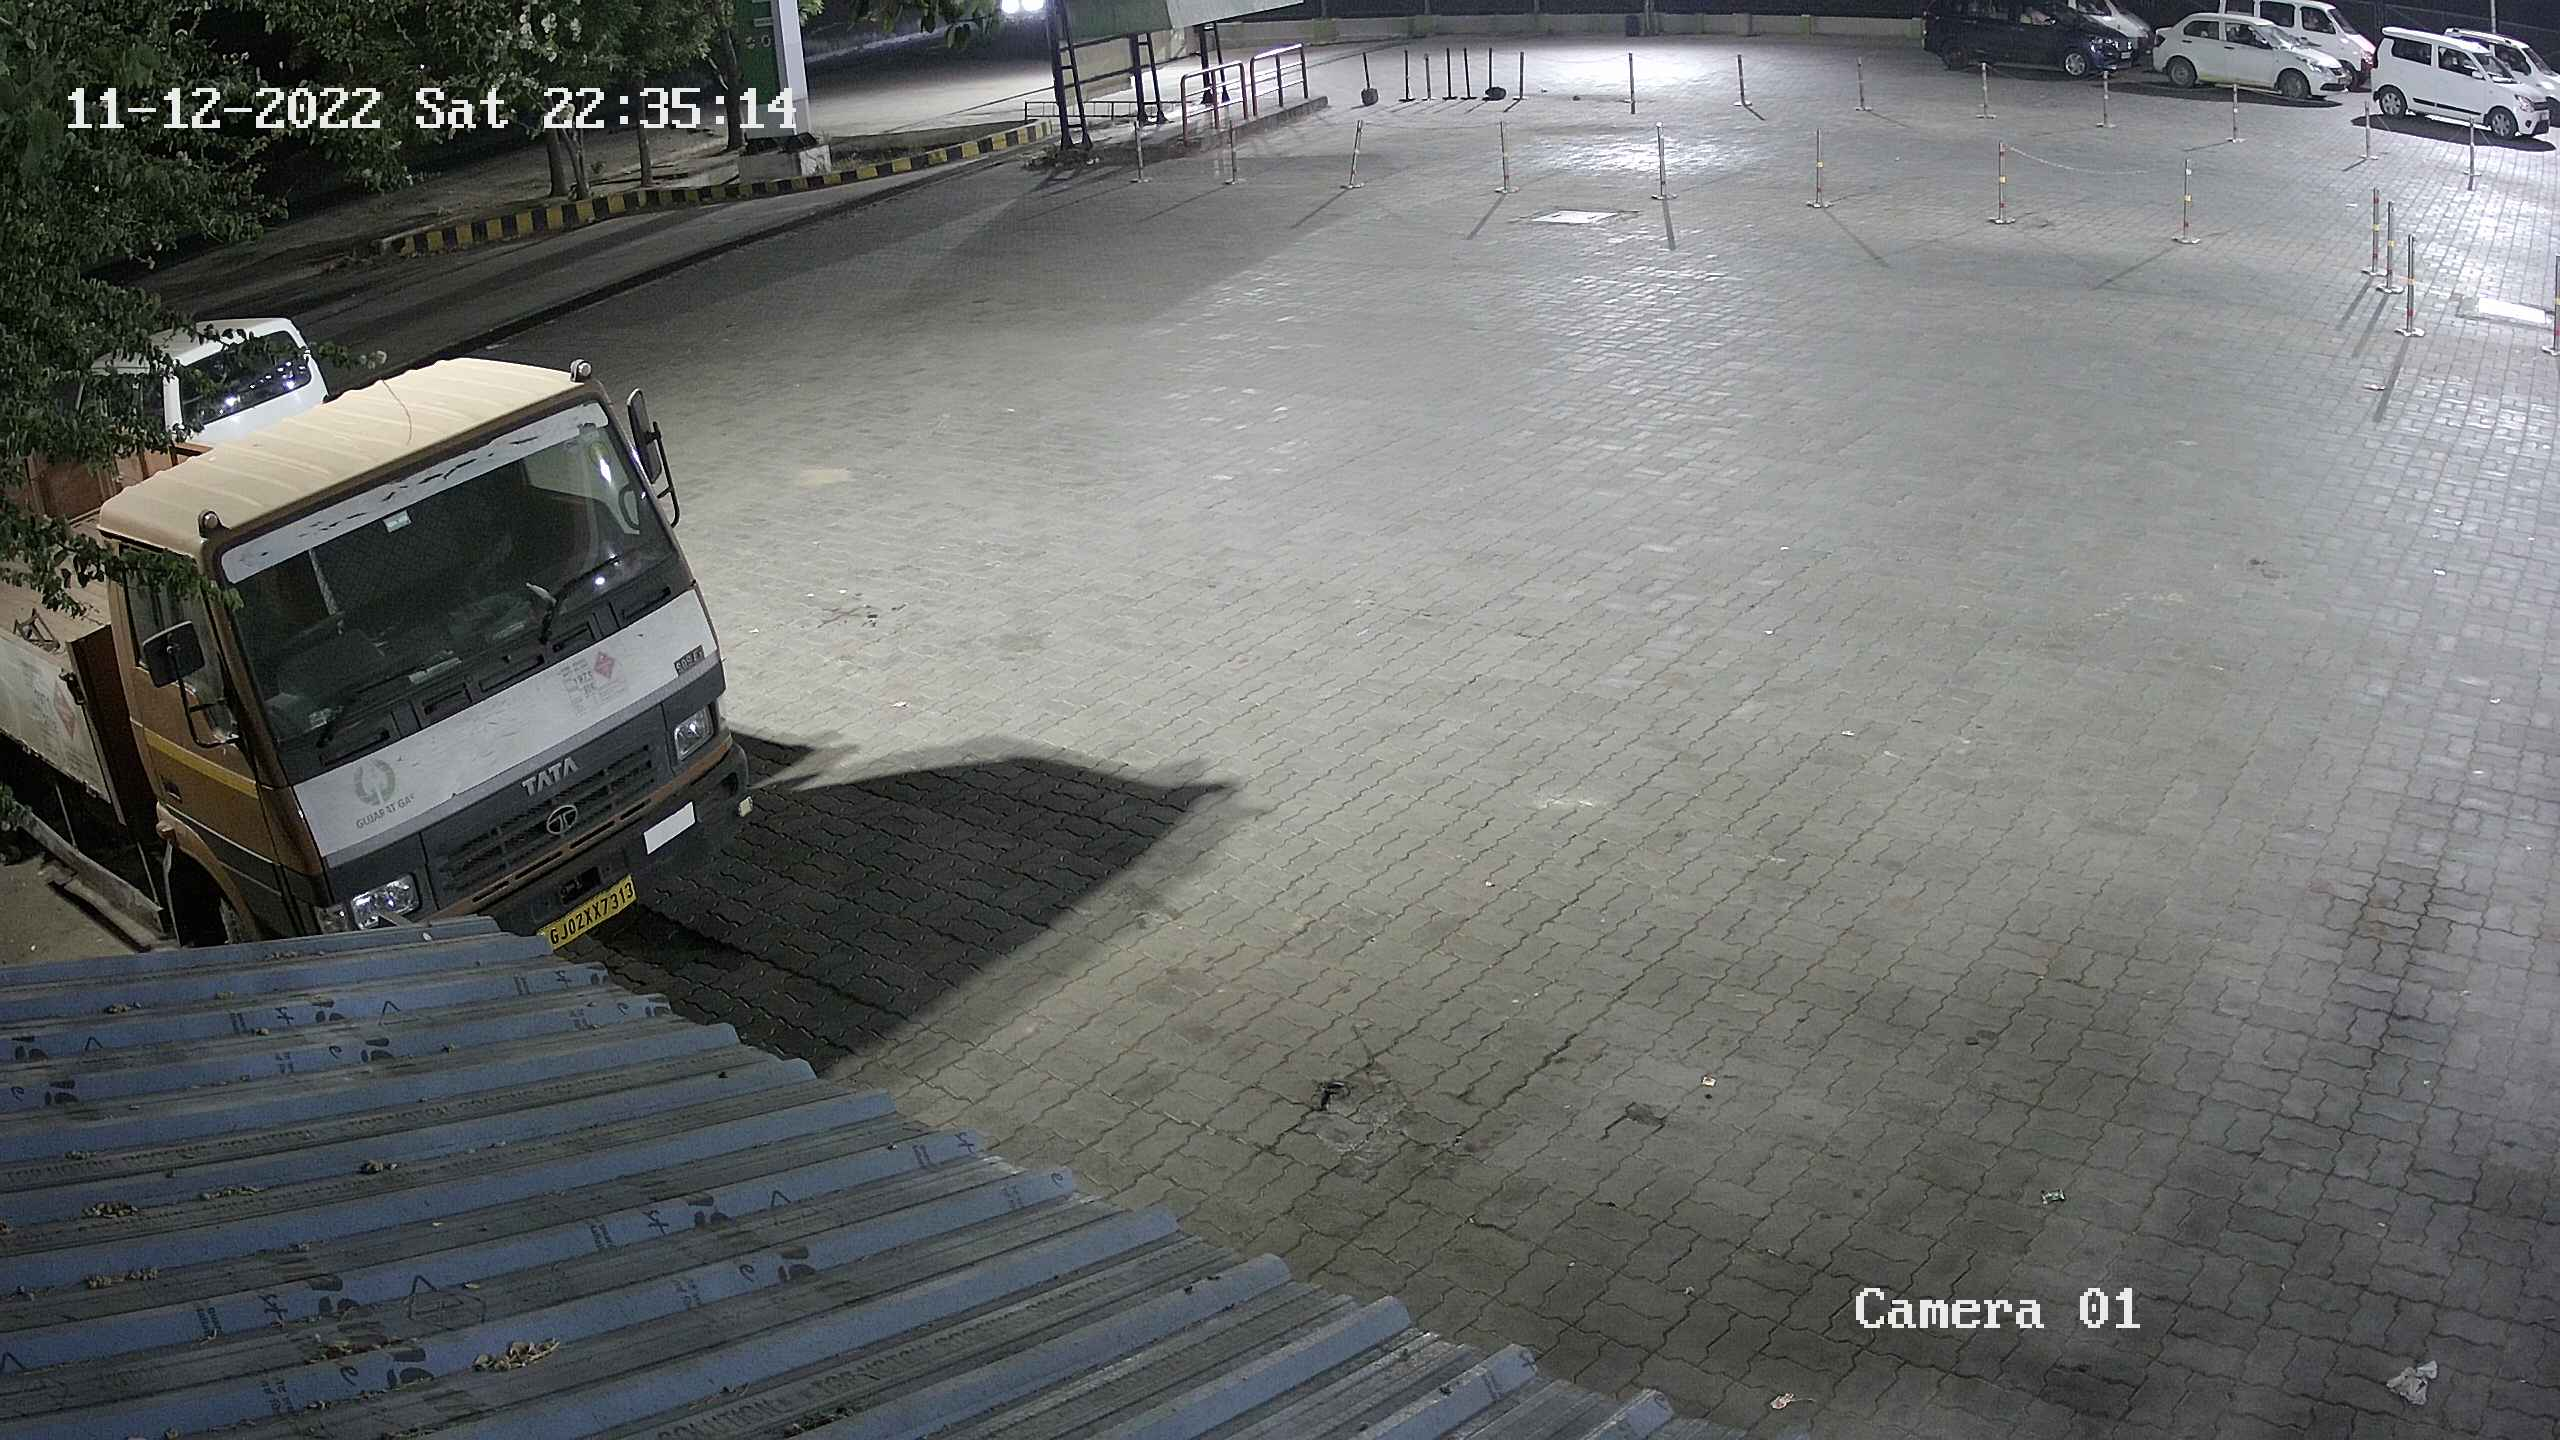Car: (32, 299, 350, 469), (2351, 23, 2546, 149), (2145, 4, 2354, 114), (1909, 0, 2142, 90), (2210, 0, 2379, 95), (2435, 19, 2558, 135), (2045, 0, 2163, 70)
HMV: (0, 336, 784, 965)
